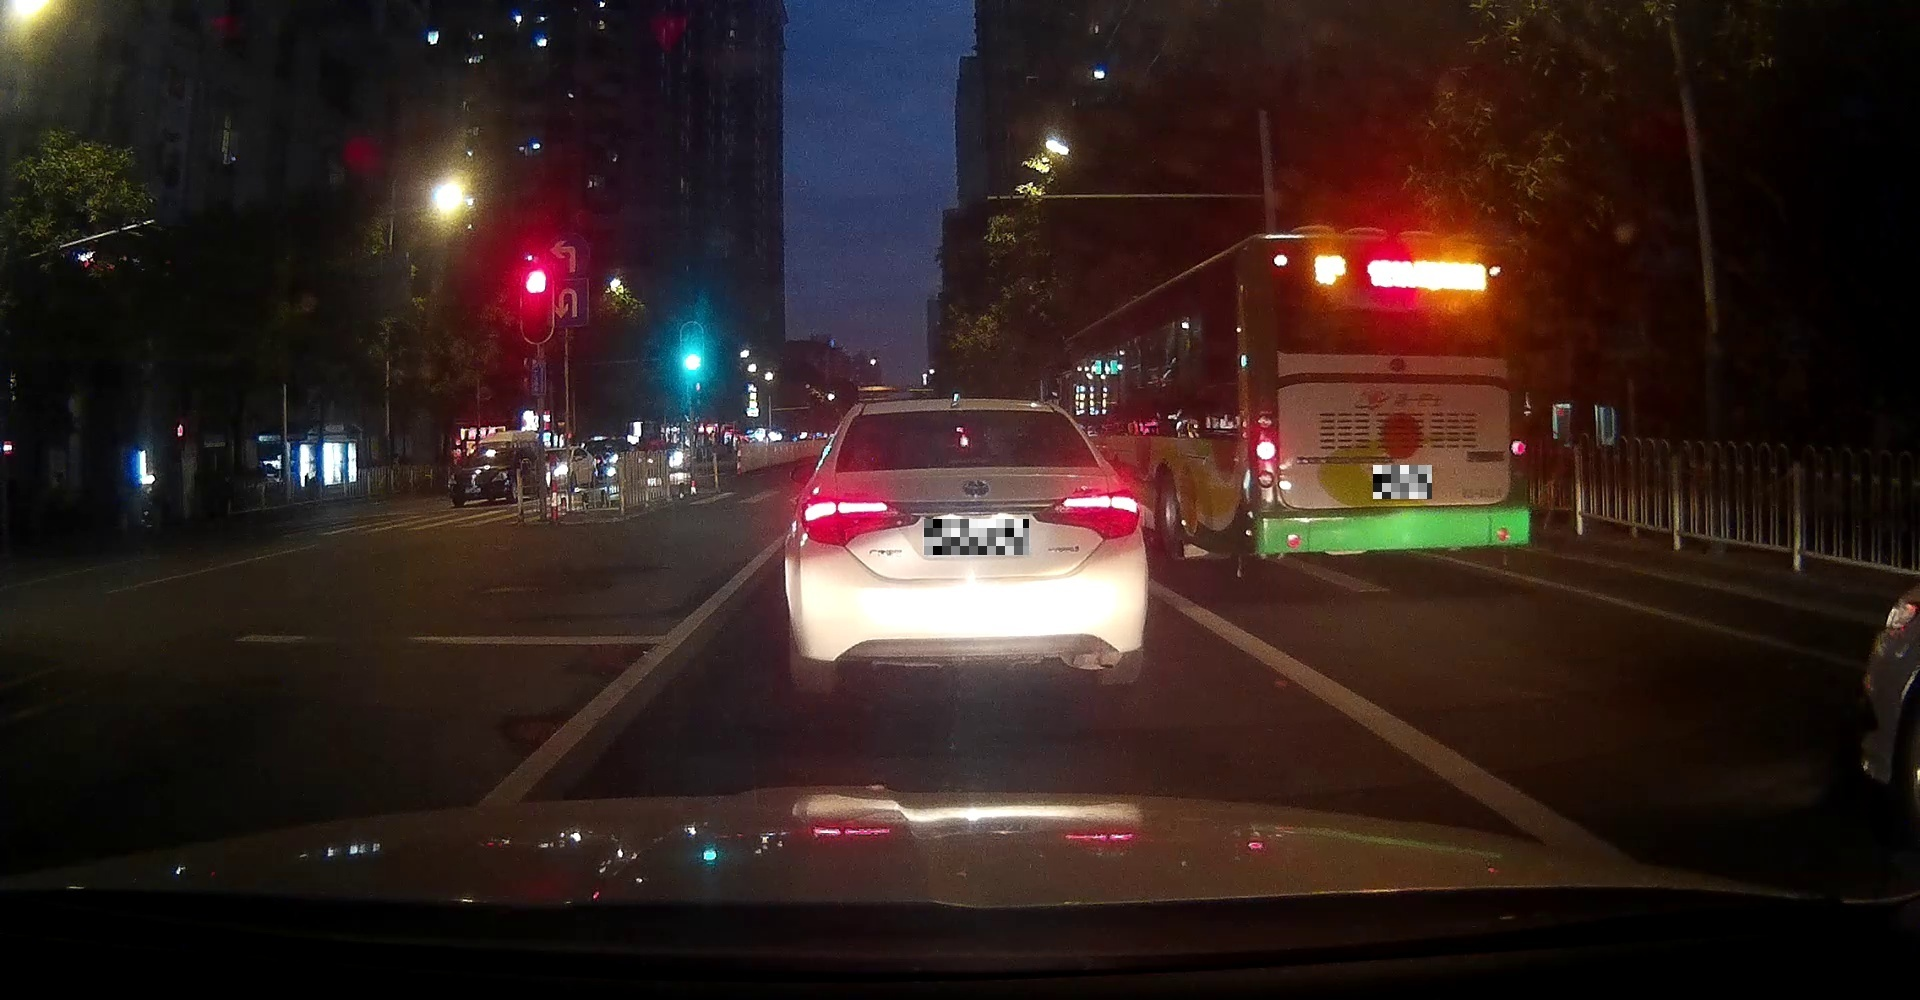L_light: (799, 494, 919, 547), (1255, 409, 1275, 487)
R_light: (1032, 484, 1140, 541), (1511, 406, 1531, 481)
T_light: (945, 456, 990, 468), (1379, 244, 1412, 260)
night-no: (786, 397, 1149, 695), (1244, 230, 1533, 585)
plate_1: (924, 519, 1029, 555)
plate_2: (1373, 464, 1432, 499)
